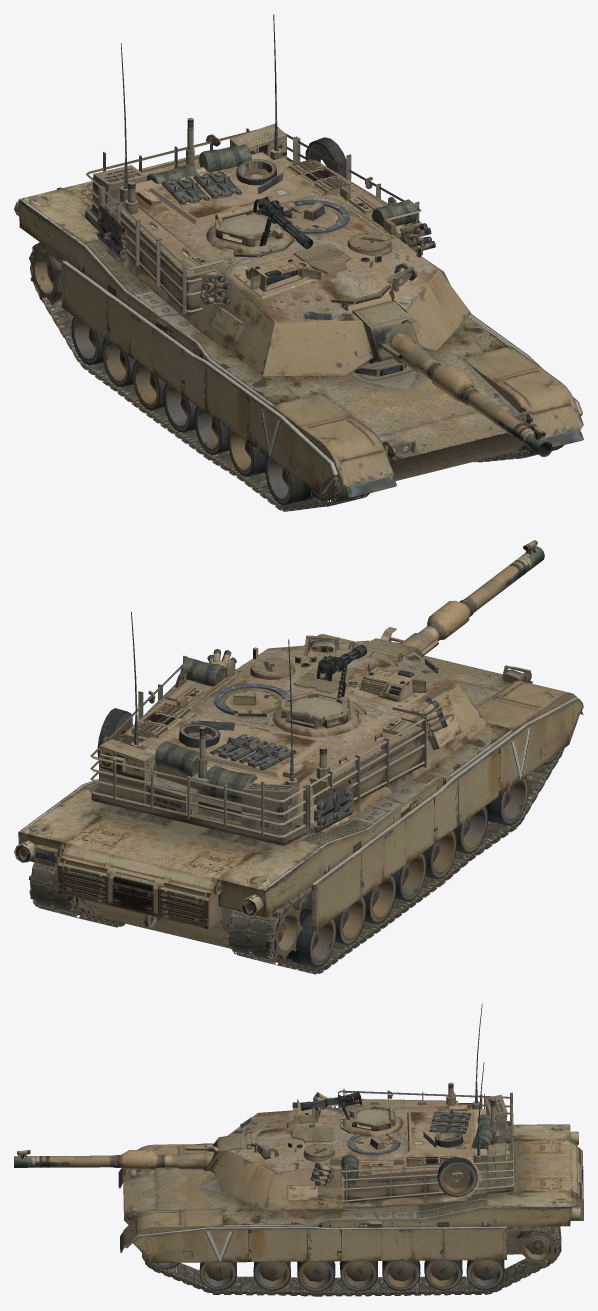
The model's file is tank_m1a2.glb.
3 views of the same model, one above another, from view 1: azimuth 30°, elevation 25°; view 2: azimuth 150°, elevation 25°; view 3: azimuth 270°, elevation 25° (orthographic). The views are drawn at different scales.
Visible parts, largest first — view 1: Object_5, Object_2, Object_3; view 2: Object_5, Object_2, Object_3; view 3: Object_5, Object_2, Object_3.
Part boxes in pixels (x1,y1,x2,y2): Object_5: (14, 14, 583, 504); Object_2: (30, 242, 563, 511); Object_3: (253, 196, 312, 248); Object_5: (14, 540, 583, 967); Object_2: (29, 748, 564, 974); Object_3: (317, 645, 366, 681); Object_5: (14, 1003, 583, 1291); Object_2: (142, 1226, 561, 1296); Object_3: (300, 1091, 361, 1110).
Bounding box in the file's own units: 3.53 × 4.24 × 9.77.
4 materials, 4 textured.
